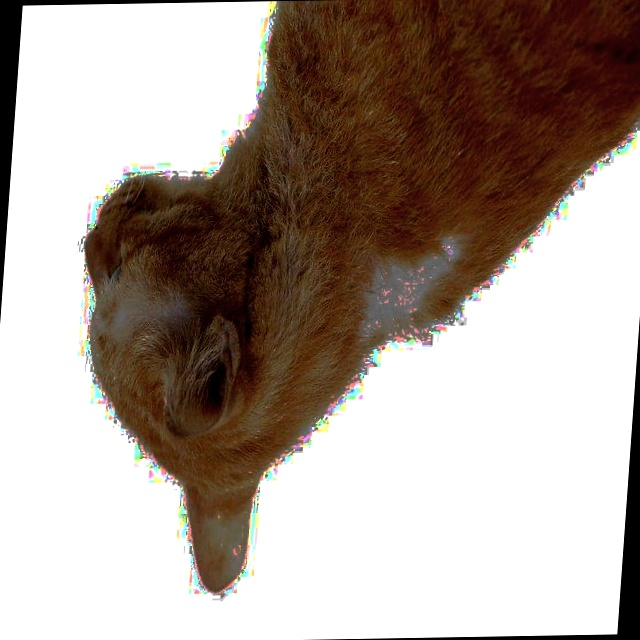hairloss: (360, 257, 444, 325)
